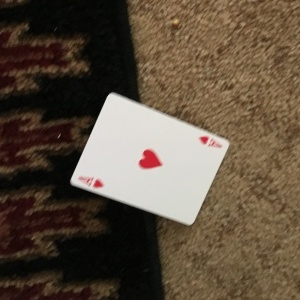card: (68, 91, 232, 228)
